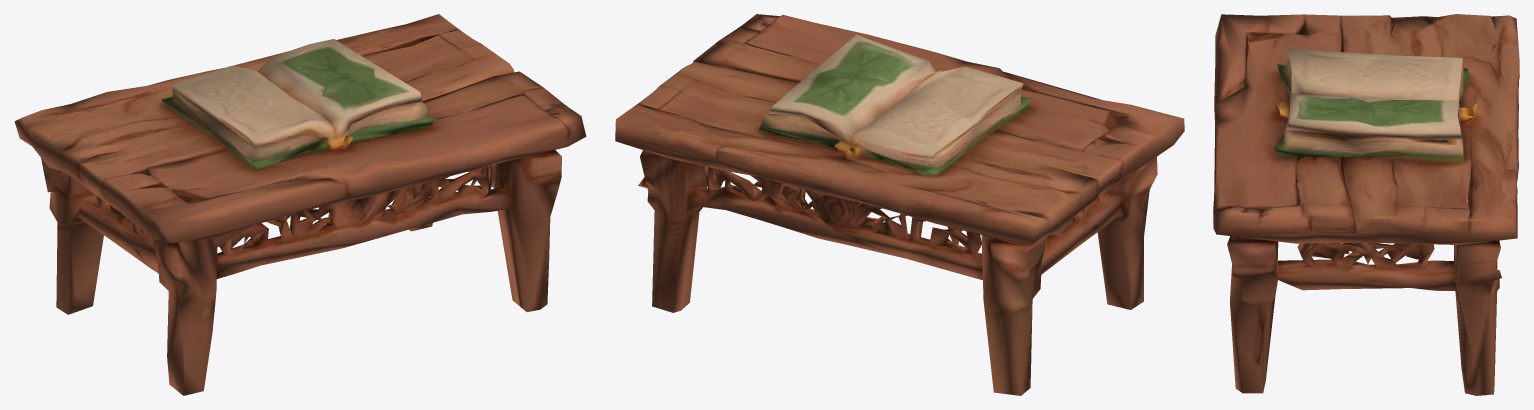
File: table.glb
3 renders of one model, left to right at view 1: azimuth 30°, elevation 25°; view 2: azimuth 150°, elevation 25°; view 3: azimuth 270°, elevation 25°, orthographic.
Parts seen in each view (by area): view 1: tripo_node_28f36327-a7a2-46b7-ab59-2d657d55c082; view 2: tripo_node_28f36327-a7a2-46b7-ab59-2d657d55c082; view 3: tripo_node_28f36327-a7a2-46b7-ab59-2d657d55c082.
Part boxes in pixels (x1,y1,x2,y2): tripo_node_28f36327-a7a2-46b7-ab59-2d657d55c082: (14, 14, 586, 395); tripo_node_28f36327-a7a2-46b7-ab59-2d657d55c082: (615, 14, 1184, 395); tripo_node_28f36327-a7a2-46b7-ab59-2d657d55c082: (1213, 14, 1519, 395).
Bounding box in the file's own units: 0.9939 × 0.4998 × 0.6171.
1 material, 1 textured.
